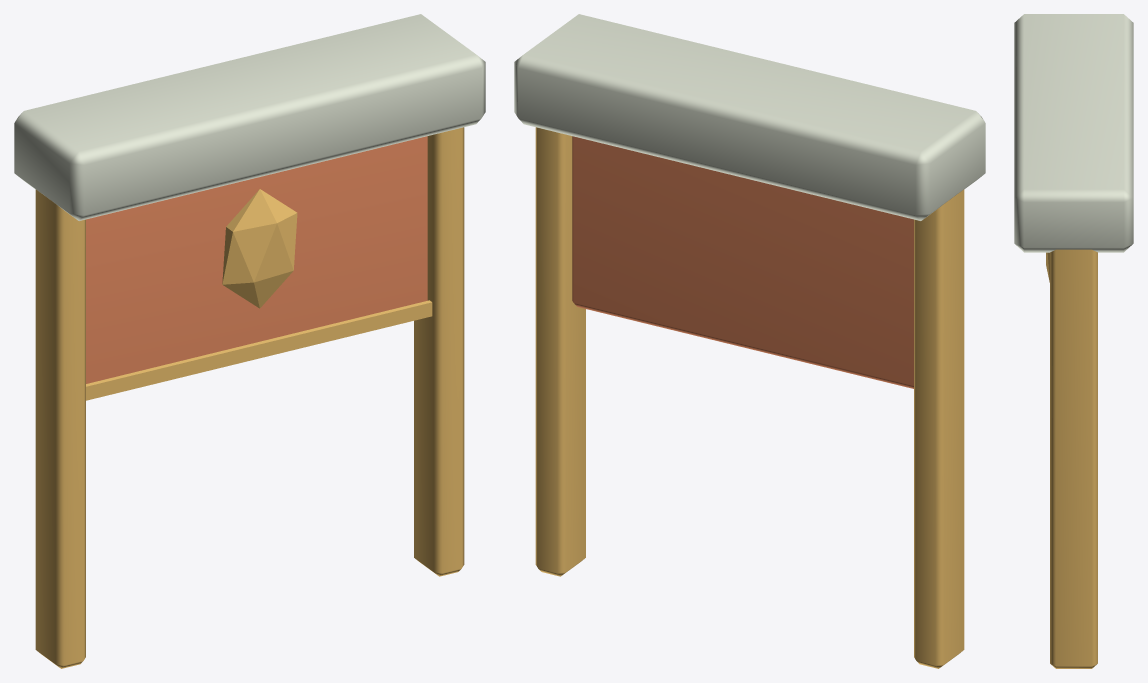
The model's file is slide_gate.glb.
3 renders of one model, left to right at view 1: azimuth 30°, elevation 25°; view 2: azimuth 150°, elevation 25°; view 3: azimuth 270°, elevation 25°, orthographic. The views are drawn at different scales.
Visible parts, largest first — view 1: Overhead_post, Slide_beam, Slide_cloth; view 2: Slide_cloth, Slide_beam, Overhead_post; view 3: Slide_beam, Overhead_post.
Part boxes in pixels (x1,y1,x2,y2): Overhead_post: [35, 127, 464, 668]; Slide_beam: [14, 14, 485, 220]; Slide_cloth: [86, 136, 427, 383]; Slide_cloth: [572, 136, 913, 388]; Slide_beam: [514, 14, 985, 220]; Overhead_post: [535, 127, 964, 668]; Slide_beam: [1014, 14, 1133, 252]; Overhead_post: [1046, 249, 1097, 668].
Size of the model in its own units: 2.18 by 2.66 by 0.6.
